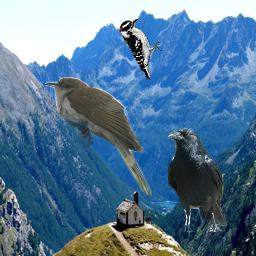Crow: (168, 128, 227, 232)
Cuckoo: (45, 77, 152, 199)
Woodpecker: (119, 18, 164, 80)
